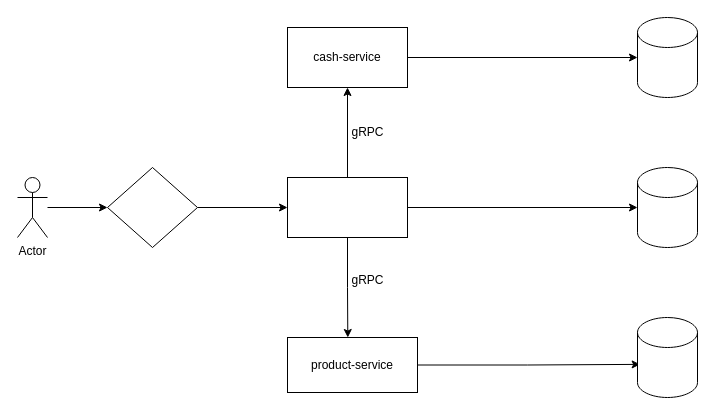
Some shapes in this 715 by 415 pixel diagram are drawn without their labels. The shapes that lost their labels are listed below. From the top down, each one's box as (x1, y1, x2, y2) in pixels, then its label:
(106, 166, 198, 248): Xác thực Tài khoản
(286, 176, 408, 238): order-service
